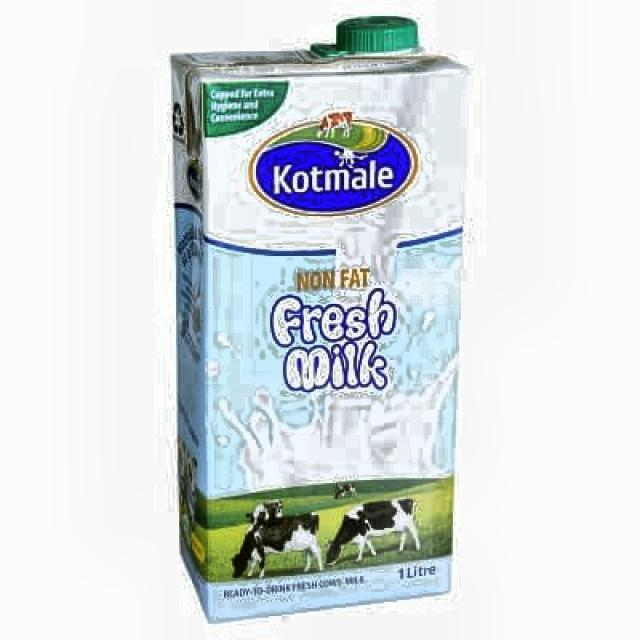cardboard: (168, 15, 467, 622)
